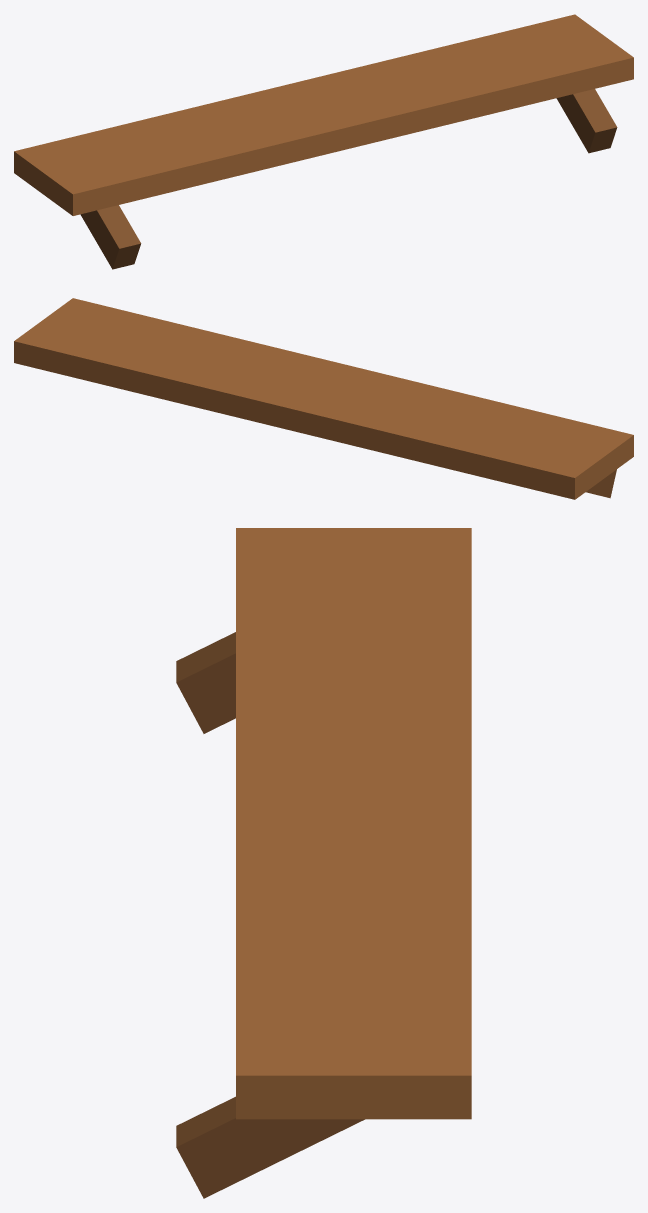
The model's file is Shelf.fbx.
3 renders of one model, top to bottom at view 1: azimuth 30°, elevation 25°; view 2: azimuth 150°, elevation 25°; view 3: azimuth 270°, elevation 25°, orthographic. The views are drawn at different scales.
Visible parts, largest first — view 1: Shelf, Supports; view 2: Shelf, Supports; view 3: Shelf, Supports.
Boxes of the visible parts, x1,y1,x2,y2 form: Shelf: (14,14,633,215); Supports: (80,89,617,269); Shelf: (14,298,633,499); Supports: (586,469,616,498); Shelf: (236,528,471,1119); Supports: (176,632,364,1198).
Size of the model in its own units: 25.79 by 3.38 by 5.88.
